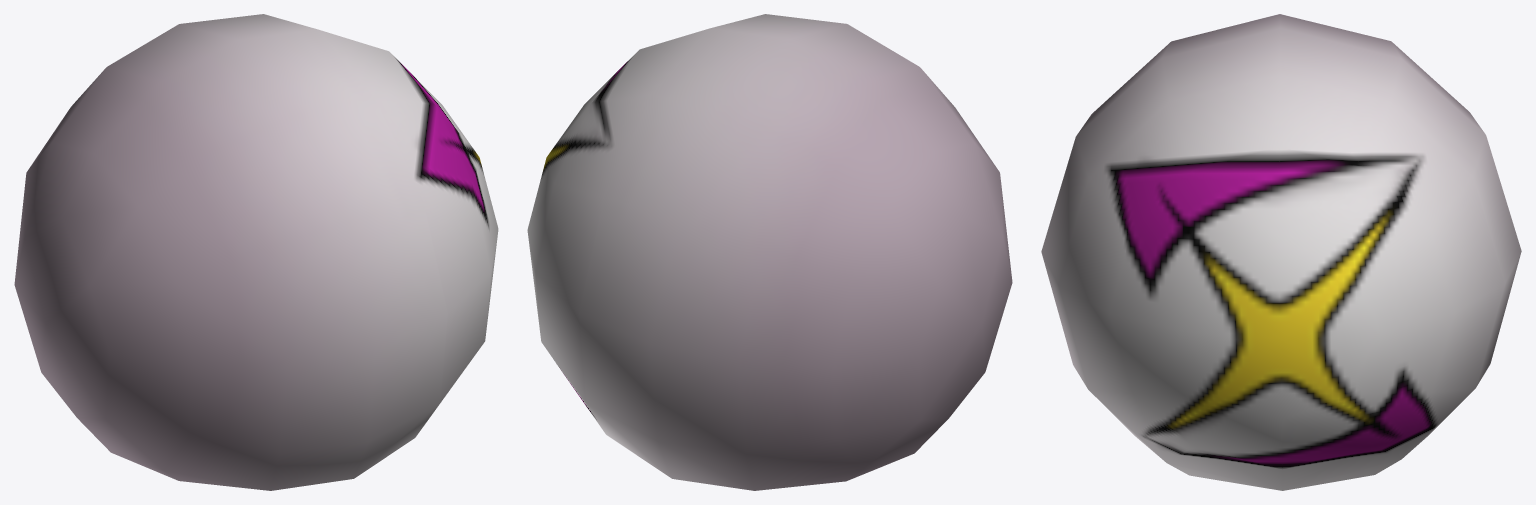
Rendered from zero_hombroIzq.obj.
3 views of the same model, side by side, from view 1: azimuth 30°, elevation 25°; view 2: azimuth 150°, elevation 25°; view 3: azimuth 270°, elevation 25° (orthographic).
Visible parts, largest first — view 1: Hombro_izq; view 2: Hombro_izq; view 3: Hombro_izq.
Boxes of the visible parts, x1=… form: Hombro_izq: x1=14, y1=14, x2=498, y2=490; Hombro_izq: x1=527, y1=14, x2=1012, y2=490; Hombro_izq: x1=1041, y1=14, x2=1521, y2=490.
Bounding box in the file's own units: 0.4237 × 0.3867 × 0.4248.
